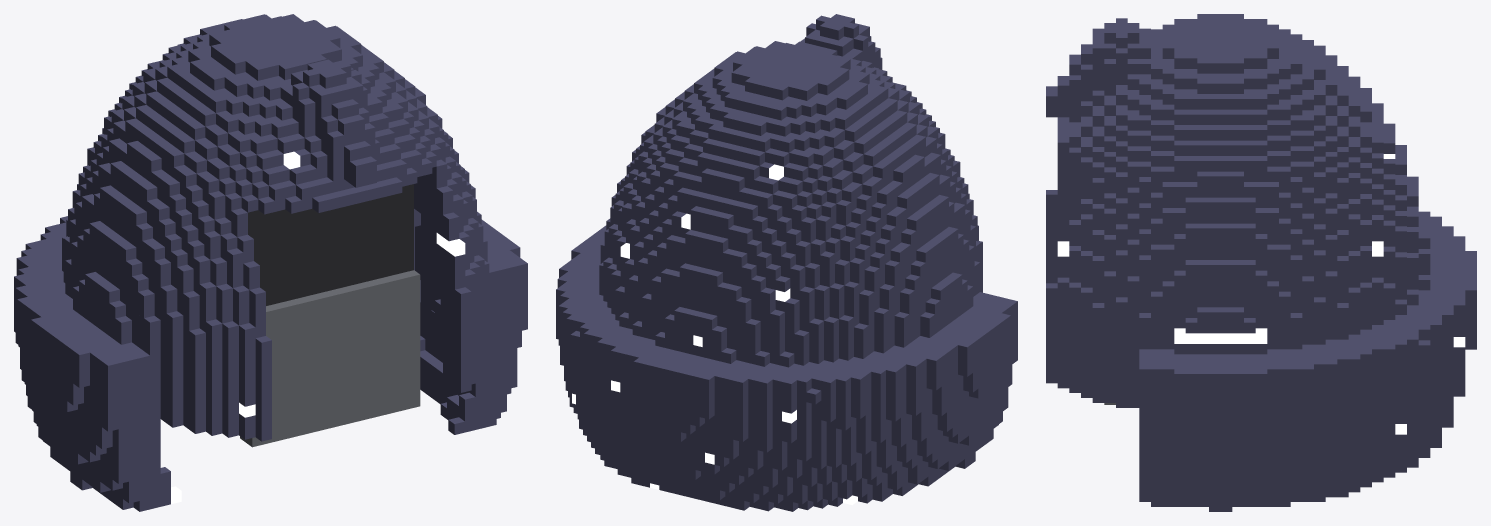
File: mystic_rare_helmet.glb
3 views of the same model, side by side, from view 1: azimuth 30°, elevation 25°; view 2: azimuth 150°, elevation 25°; view 3: azimuth 270°, elevation 25° (orthographic). The views are drawn at different scales.
Visible parts, largest first — view 1: mystic_rare_helmet; view 2: mystic_rare_helmet; view 3: mystic_rare_helmet.
Part boxes in pixels (x1,y1,x2,y2): mystic_rare_helmet: [14, 14, 527, 511]; mystic_rare_helmet: [556, 14, 1017, 511]; mystic_rare_helmet: [1046, 14, 1476, 511].
Size of the model in its own units: 0.504 by 0.444 by 0.444.
